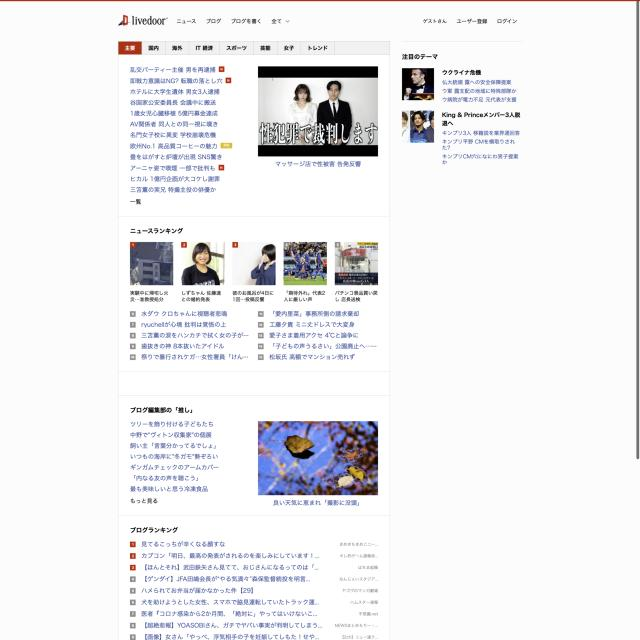logo: (117, 10, 170, 30)
navigation: (175, 15, 294, 28), (422, 14, 520, 28)
